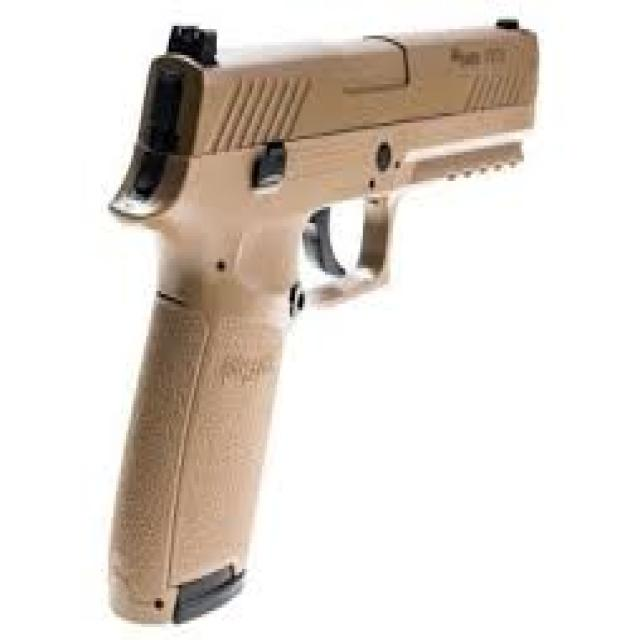pistol: (105, 9, 554, 635)
